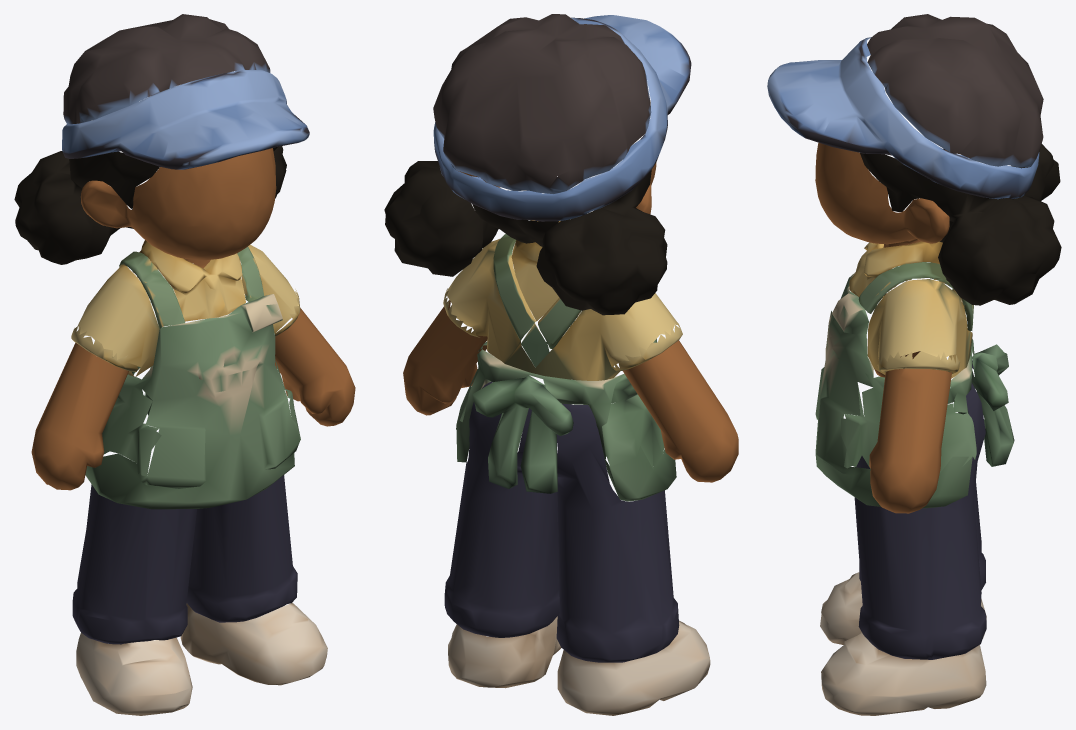
3 renders of one model, left to right at view 1: azimuth 30°, elevation 25°; view 2: azimuth 150°, elevation 25°; view 3: azimuth 270°, elevation 25°, orthographic. The views are drawn at different scales.
Visible parts, largest first — view 1: top, bottom, hair, head, acc_head_0, acc_head_4, hand_r, shoe_l, shoe_r, hand_l, acc_head_5, sleeve_r (+2 smaller); view 2: bottom, acc_head_0, top, hair, acc_head_4, hand_r, acc_head_3, shoe_r, hand_l, shoe_l, sleeve_r, acc_head_6 (+4 smaller); view 3: top, bottom, acc_head_0, hair, acc_head_3, shoe_l, hand_l, head, sleeve_l, acc_head_5, shoe_r, acc_head_6 (+1 smaller).
Part boxes in pixels (<box>): top: <box>78,244,300,509</box>; bottom: <box>72,475,297,644</box>; hair: <box>62,69,309,169</box>; head: <box>80,148,276,268</box>; acc_head_0: <box>63,14,270,124</box>; acc_head_4: <box>14,151,159,264</box>; hand_r: <box>31,342,128,490</box>; shoe_l: <box>180,602,327,685</box>; shoe_r: <box>76,632,192,715</box>; hand_l: <box>275,308,355,426</box>; acc_head_5: <box>139,240,245,321</box>; sleeve_r: <box>71,326,161,476</box>; bottom: <box>444,381,679,662</box>; acc_head_0: <box>433,14,651,193</box>; top: <box>446,238,677,501</box>; hair: <box>433,15,691,221</box>; acc_head_4: <box>536,170,667,315</box>; hand_r: <box>623,340,738,482</box>; acc_head_3: <box>384,161,498,276</box>; shoe_r: <box>557,620,710,715</box>; hand_l: <box>403,300,487,415</box>; shoe_l: <box>448,616,561,688</box>; sleeve_r: <box>602,322,682,468</box>; acc_head_6: <box>493,234,535,341</box>; top: <box>815,272,1014,508</box>; bottom: <box>854,360,986,659</box>; acc_head_0: <box>867,14,1043,167</box>; hair: <box>767,37,1039,199</box>; acc_head_3: <box>860,153,1061,305</box>; shoe_l: <box>821,633,986,715</box>; hand_l: <box>869,368,951,513</box>; head: <box>815,142,949,247</box>; sleeve_l: <box>841,351,976,473</box>; acc_head_5: <box>849,241,942,296</box>; shoe_r: <box>820,572,986,644</box>; acc_head_6: <box>858,262,972,330</box>.
Size of the model in its own units: 0.5359 by 1.03 by 0.4319.
